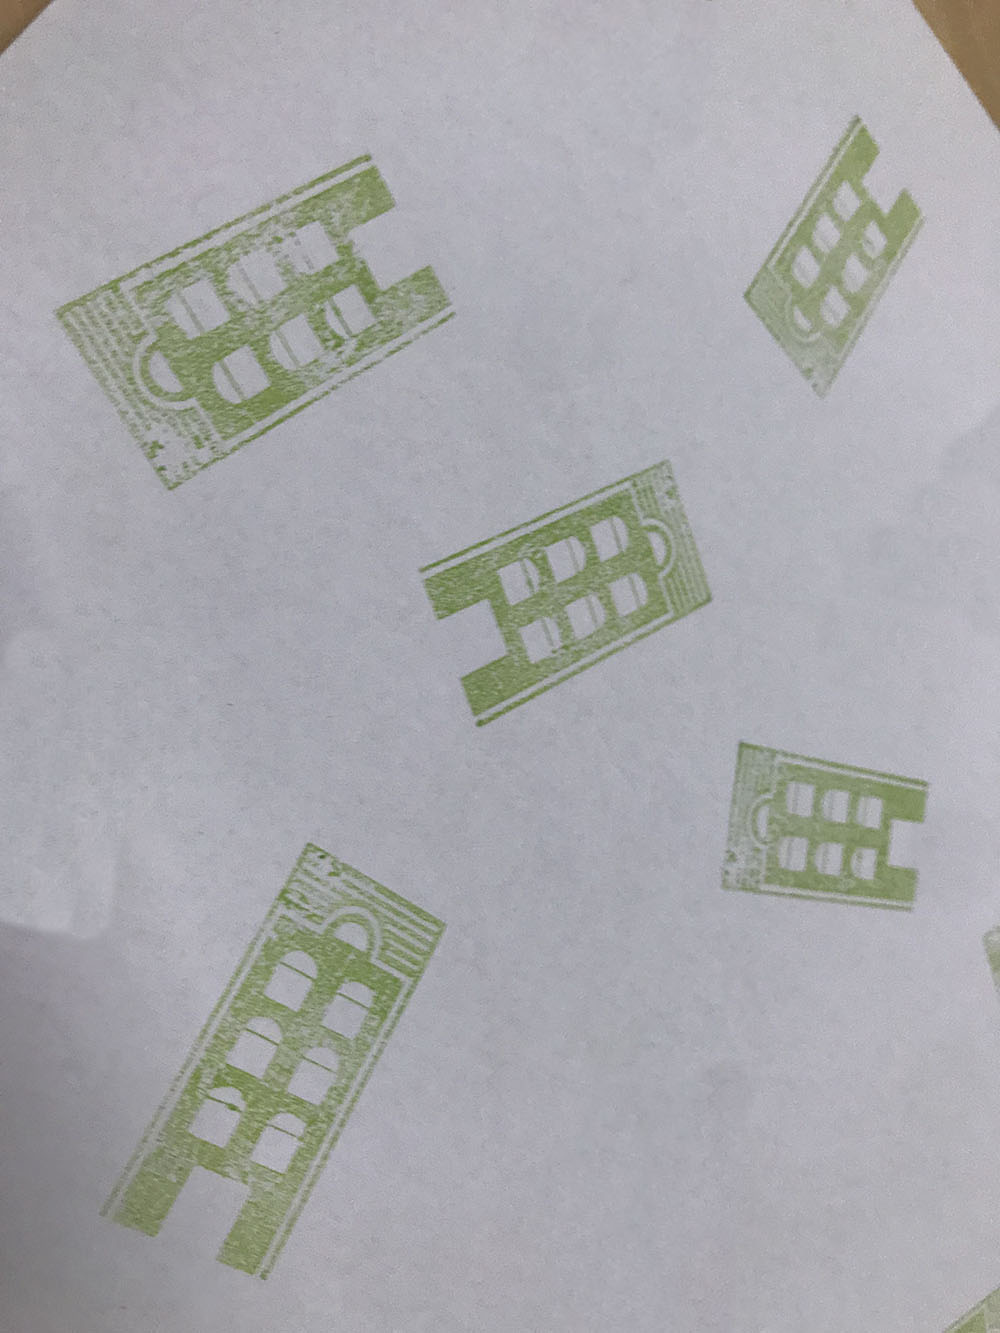build: (50, 810, 482, 1317), (39, 131, 475, 507), (399, 442, 736, 754), (731, 82, 939, 429), (689, 724, 947, 950)
